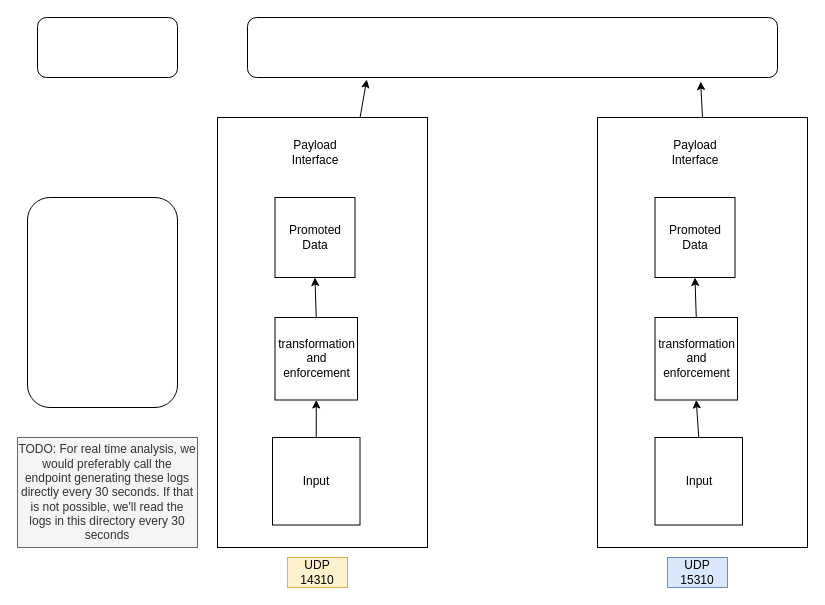
The diagram is 825 pixels wide and 605 high, and some of its shapes have lost their labels. Each missing label, with the centre of its shape:
Analysis: the point at 512,47
Unit Testing Input Injection: the point at 102,302
Unit Testing Instance creation based off Input Inject: the point at 107,47
